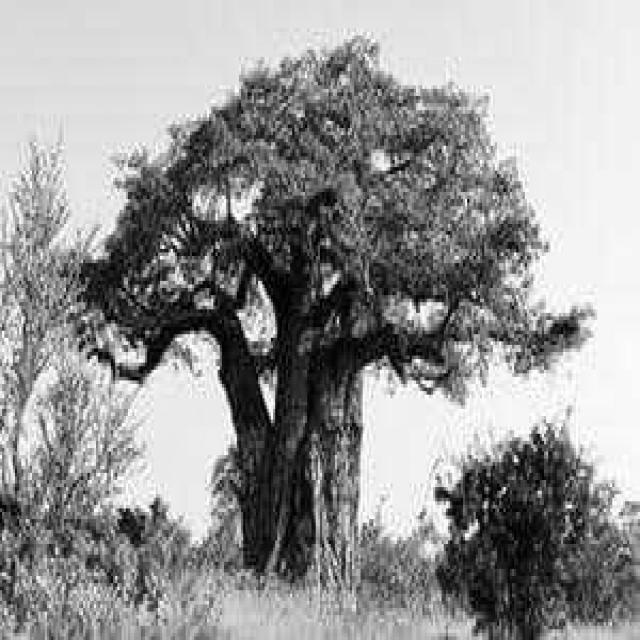Tree: (90, 40, 578, 601)
